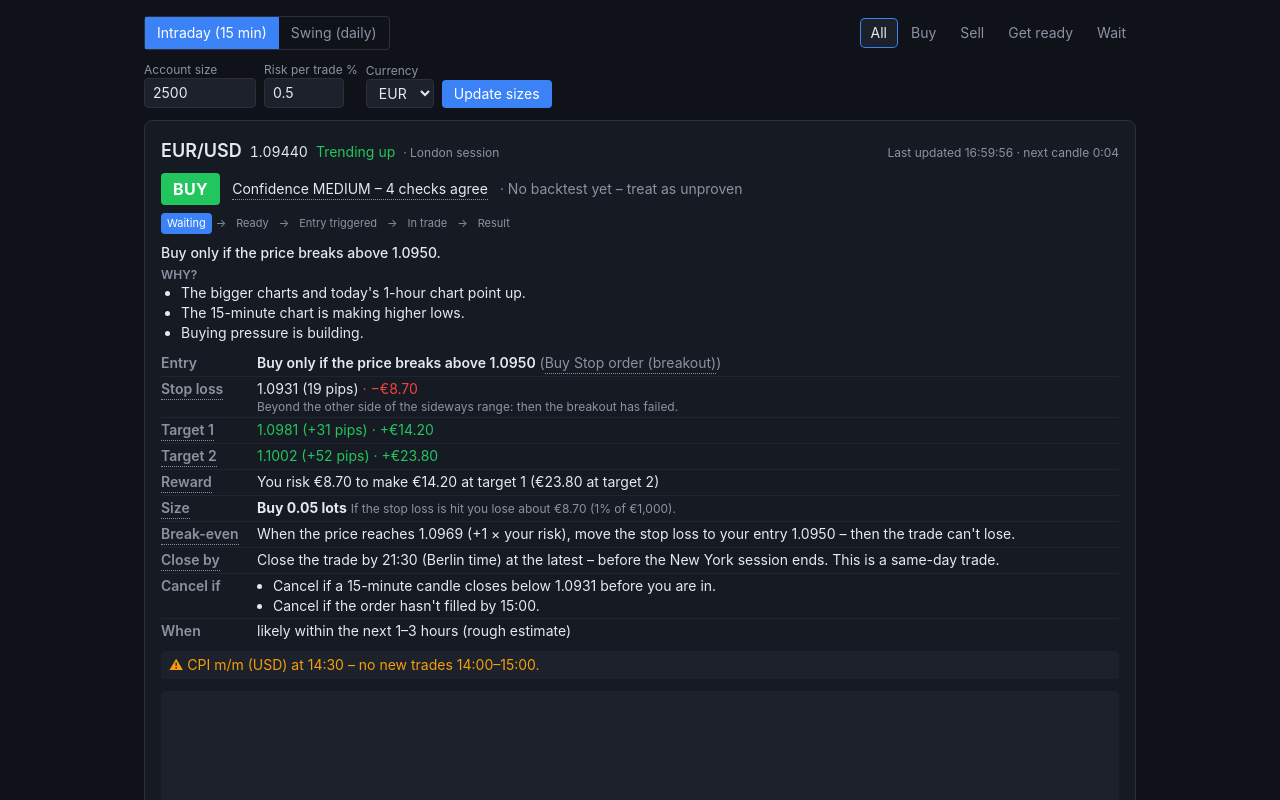
Trade Plan tab › switches to the daily swing cards
Click the button "Swing (daily)": (334, 33) [279,17,389,49]
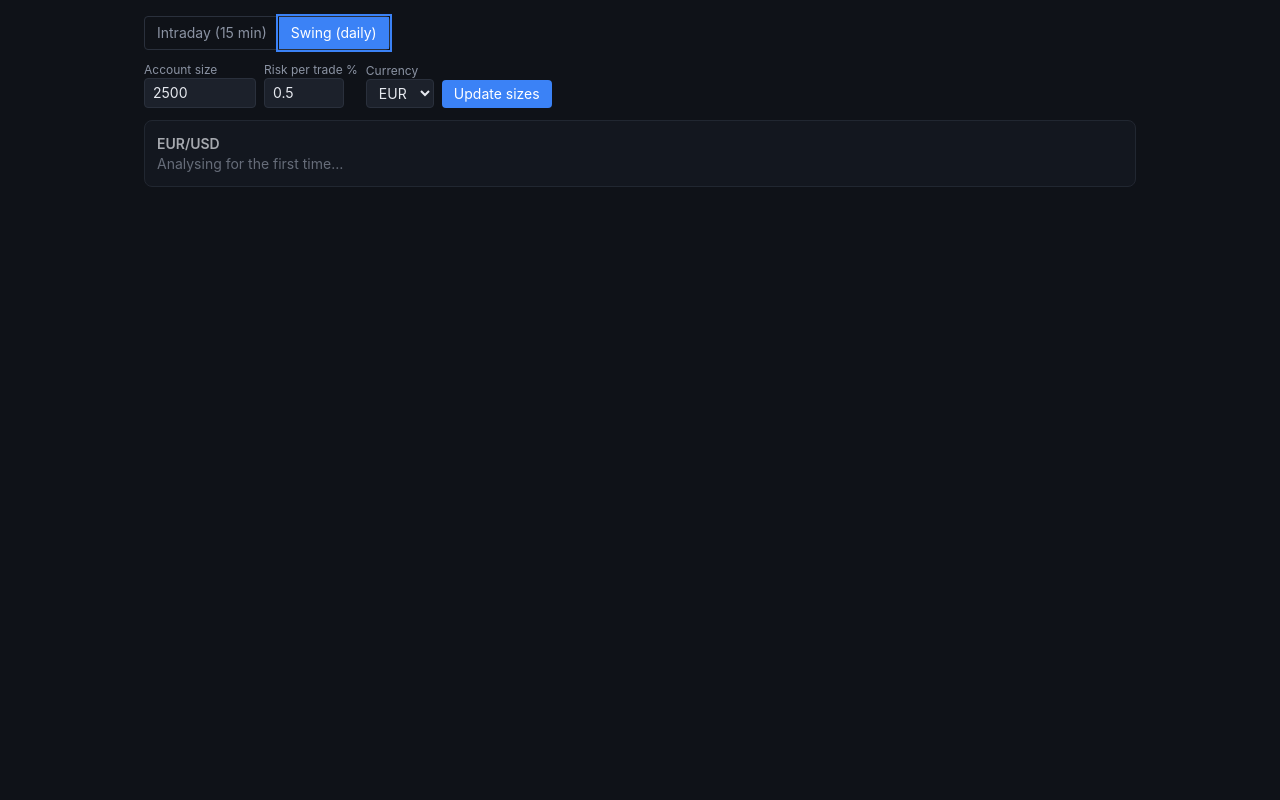
Expected: the element with test id "swing-card" shows "Analysing for the first time…", [157,155,343,172]
